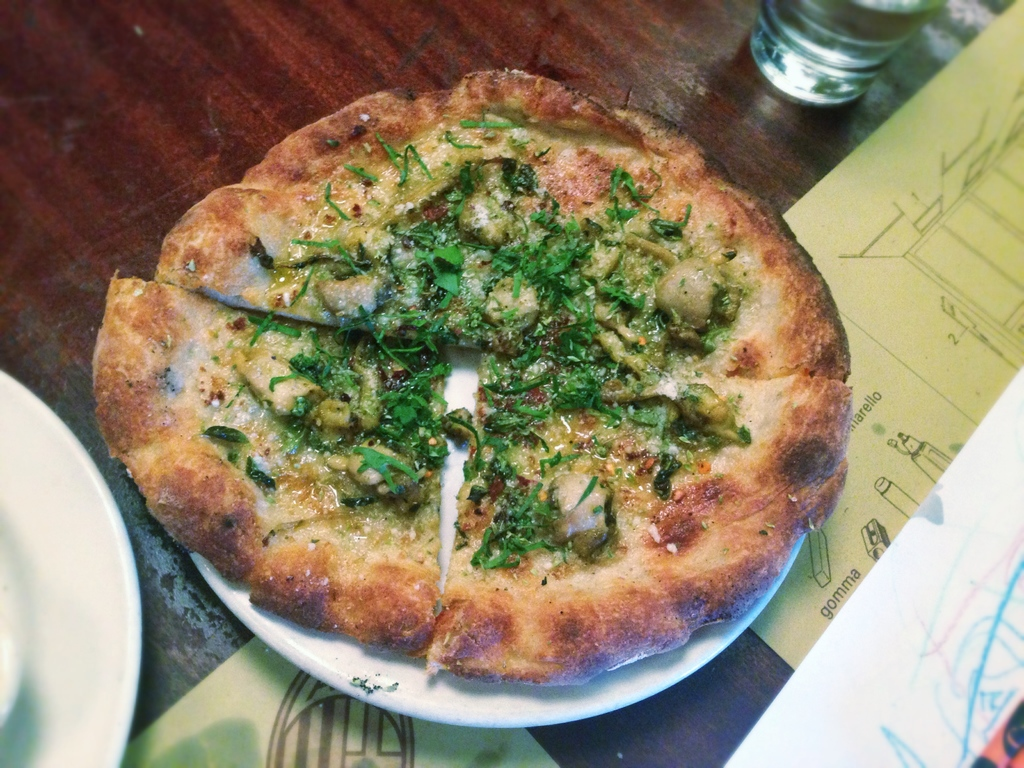Pizza: (85, 63, 852, 679)
